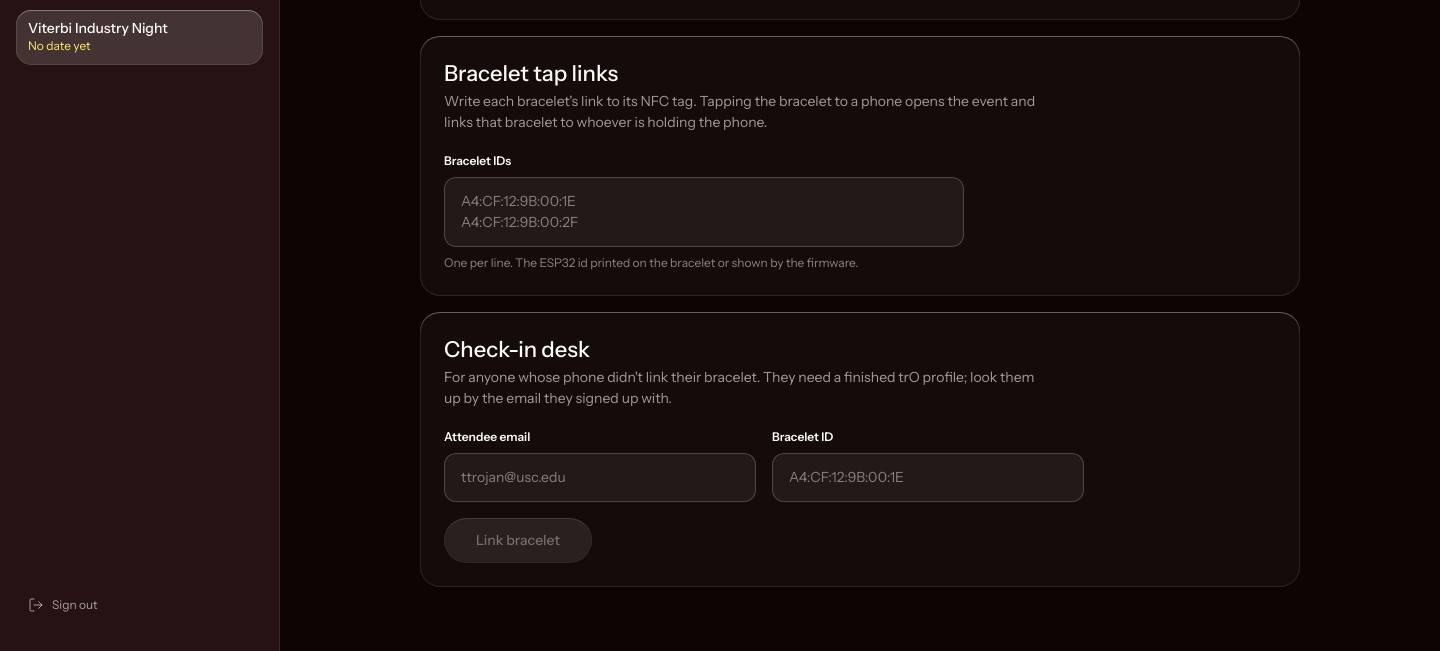
Test: organizer console › summarizes the event and links a bracelet at the desk
(page scrolled)
Step 1. Type "ada@usc.edu" into the field labelled "Attendee email" → (600, 478), box [444, 453, 756, 502]
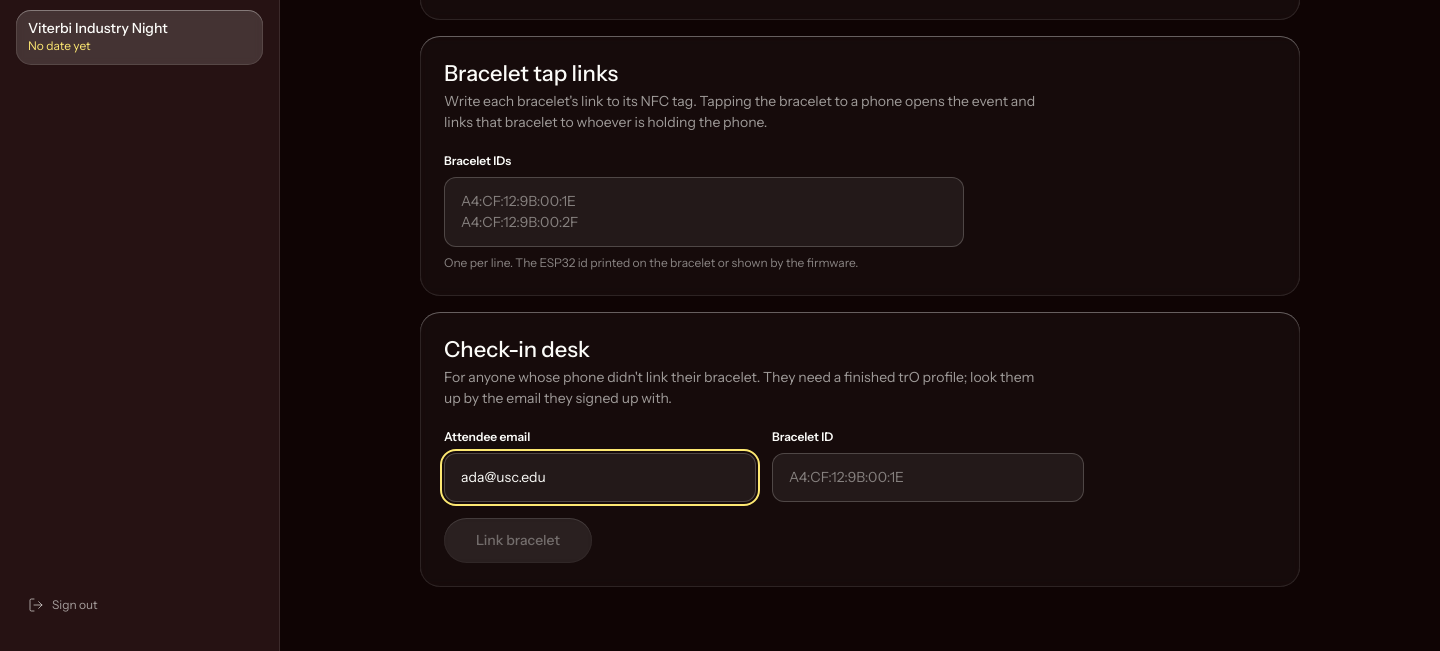
Step 2. Type "a4:cf:00:01" into the field labelled "Bracelet ID" → (928, 478), box [772, 453, 1084, 502]
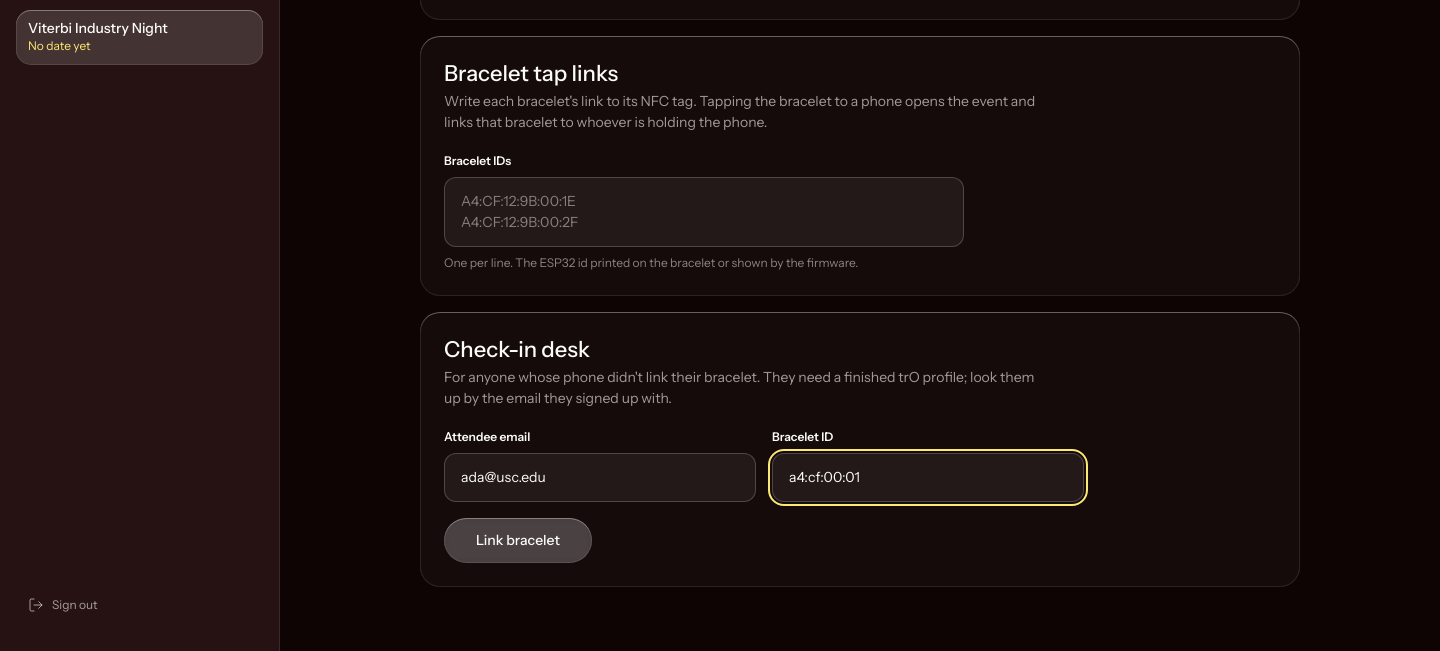
Step 3. Click the button "Link bracelet" → click(518, 540), box [444, 518, 592, 563]
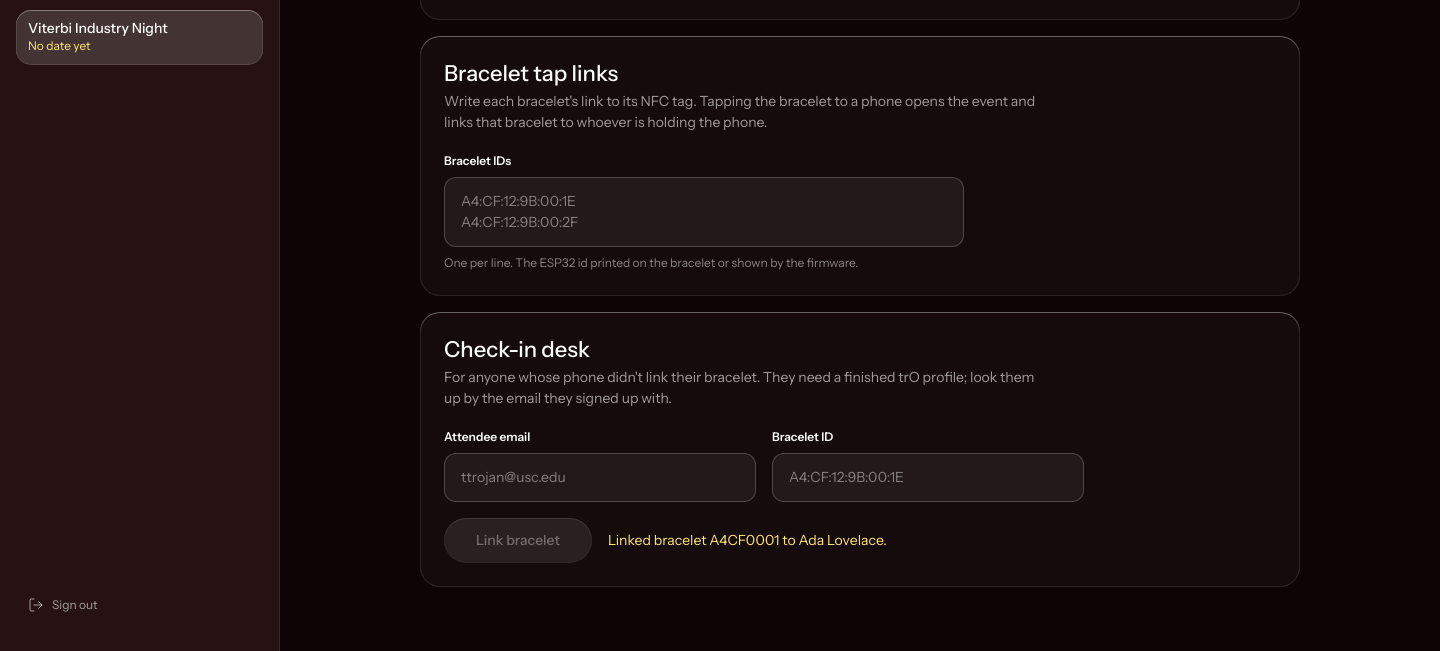
Result: the text "Linked bracelet A4CF0001 to Ada Lovelace." is shown at [608, 530, 887, 551]
